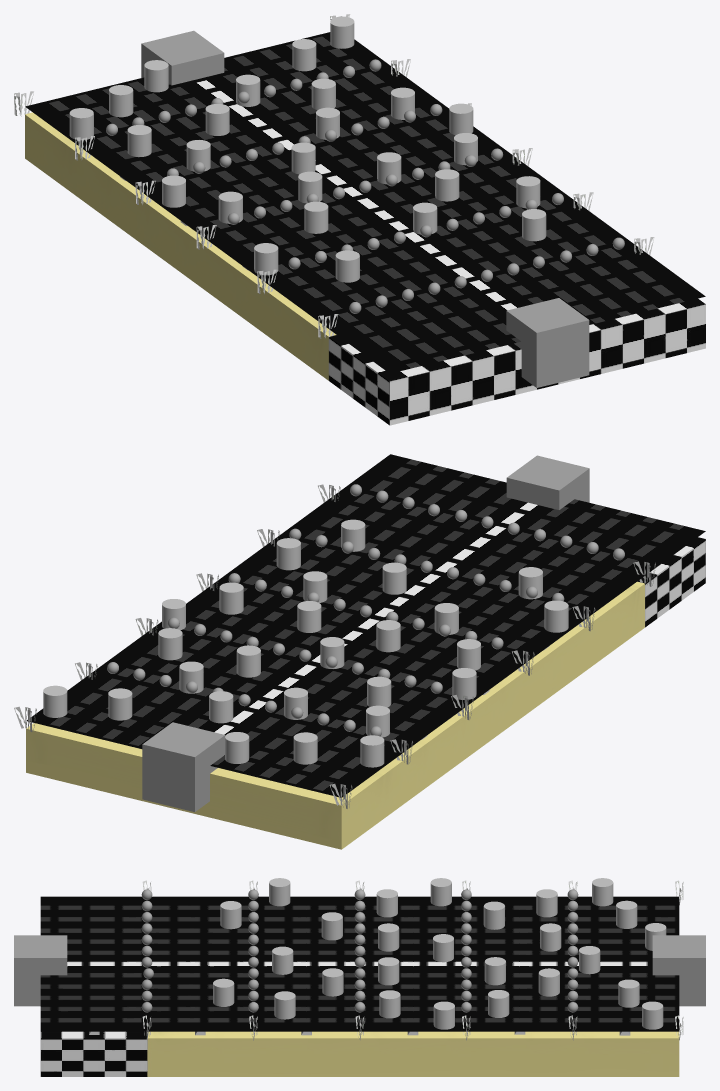
Rendered from assets013_Streckenteil_gerade_start001.fbx.
3 renders of one model, top to bottom at view 1: azimuth 30°, elevation 25°; view 2: azimuth 150°, elevation 25°; view 3: azimuth 270°, elevation 25°, orthographic. The views are drawn at different scales.
Parts seen in each view (by area): view 1: streckenteil_gerade_indicator_geo, streckenteil_gerade_start_geo, b (×11), startpoint, c (×7), a (×6), endpoint, d (×2); view 2: streckenteil_gerade_indicator_geo, streckenteil_gerade_start_geo, b (×10), endpoint, c (×7), a (×6), startpoint, d (×2); view 3: streckenteil_gerade_indicator_geo, streckenteil_gerade_start_geo, b (×11), c (×7), a (×6), startpoint, endpoint, d (×2).
Boxes of the visible parts, x1,y1,x2,y2 form: streckenteil_gerade_indicator_geo: (25, 32, 705, 373); streckenteil_gerade_start_geo: (25, 112, 705, 425); b (×11): (205, 39, 477, 275); startpoint: (506, 298, 589, 387); c (×7): (127, 16, 414, 207); a (×6): (298, 152, 546, 282); endpoint: (141, 30, 224, 85); d (×2): (69, 85, 133, 140); streckenteil_gerade_indicator_geo: (26, 454, 705, 797); streckenteil_gerade_start_geo: (26, 537, 705, 849); b (×10): (108, 571, 568, 723); endpoint: (142, 722, 225, 811); c (×7): (43, 628, 476, 763); a (×6): (276, 519, 542, 652); startpoint: (506, 455, 589, 509); d (×2): (293, 732, 384, 767); streckenteil_gerade_indicator_geo: (40, 896, 679, 1031); streckenteil_gerade_start_geo: (40, 1031, 679, 1076); b (×11): (269, 878, 639, 1029); c (×7): (430, 878, 666, 1029); a (×6): (213, 901, 399, 1019); startpoint: (14, 935, 67, 1006); endpoint: (652, 935, 705, 1006); d (×2): (592, 878, 637, 928).
Size of the model in its own units: 32.03 by 6.73 by 65.
